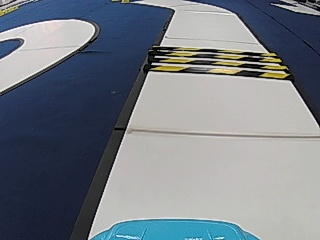bump: (143, 41, 297, 84)
